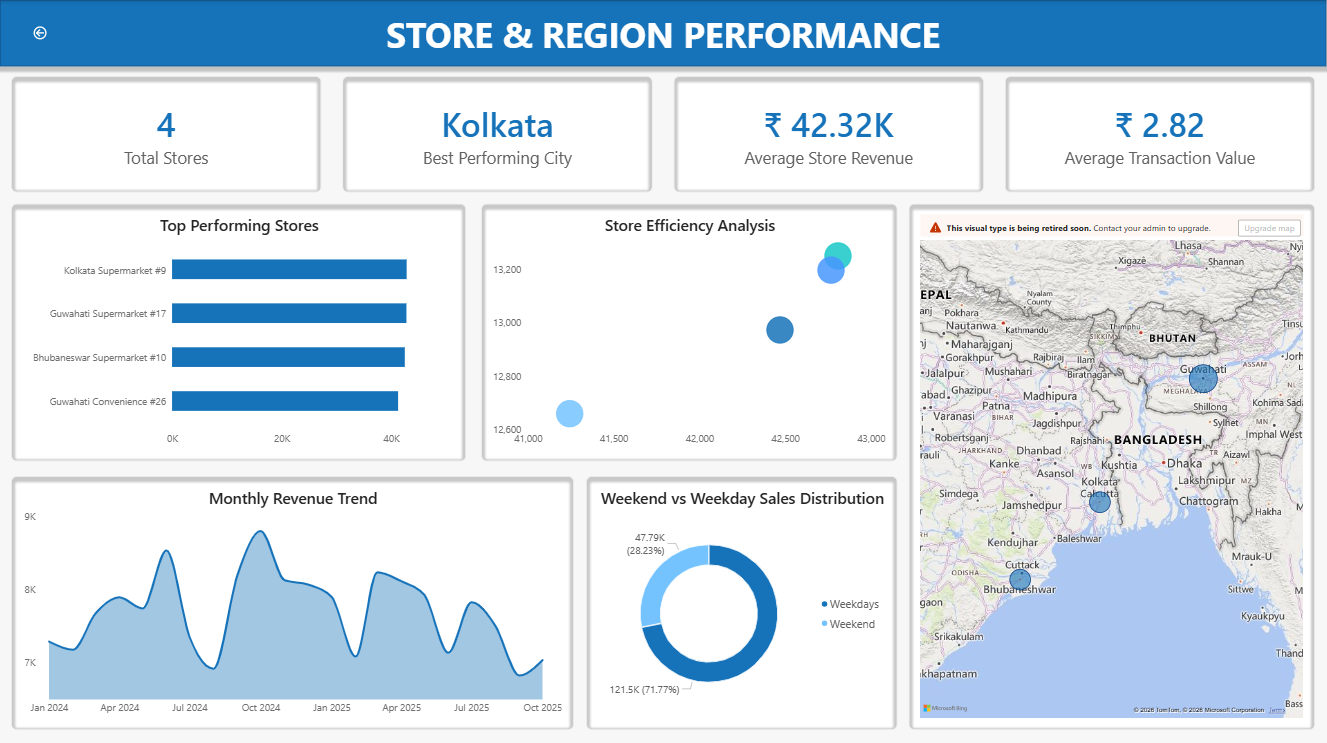

Layout of this report page (visuals, bound fields, positions):
{"tool":"powerbi","page":{"name":"STORE & REGION PERFORMANCE","canvas":[1920,1080],"ordinal":2},"visuals":[{"type":"shape","box":[0,0,1920.1,95.9],"z":0},{"type":"card","fields":{"Values":["Measure.Total Stores"]},"box":[16.3,110.4,448.8,168.3],"z":1000},{"type":"card","fields":{"Values":["Measure.Best Performing City"]},"box":[495.8,110.4,448.8,168.3],"z":2000},{"type":"map","fields":{"Category":["Dim_Stores.City"],"Size":["Measure.Total Sales"]},"box":[1315.6,295,588.1,761.9],"z":3000},{"type":"scatterChart","title":"Store Efficiency Analysis","fields":{"Series":["Dim_Stores.StoreName"],"Size":["Measure.Total Orders"],"X":["Measure.Total Sales"],"Y":["Measure.Total Profit"]},"box":[696.7,295,602.6,372.8],"z":4000},{"type":"card","fields":{"Values":["Measure.Average Store Revenue"]},"box":[975.4,110.4,448.8,168.3],"z":5000},{"type":"actionButton","box":[0,0,115.8,95.9],"z":6000},{"type":"card","fields":{"Values":["Measure.Average Transaction Value"]},"box":[1455,110.4,448.8,168.3],"z":7000},{"type":"barChart","title":"Top Performing Stores","fields":{"Category":["Dim_Stores.StoreName"],"Y":["Measure.Total Sales"]},"box":[16.3,295,658.7,372.8],"z":8000},{"type":"areaChart","title":"Monthly Revenue Trend","fields":{"Category":["Dim_Calendar.Year Hierarchy.StartofMonth"],"Y":["Measure.Total Sales"]},"box":[16.3,689.5,814.3,367.4],"z":9000},{"type":"donutChart","title":"Weekend vs Weekday Sales Distribution","fields":{"Category":["Dim_Calendar.IsWeekend"],"Y":["Measure.Total Sales"]},"box":[848.7,689.5,450.6,367.4],"z":10000}]}

Visuals, with their boxes in screenshot pixels (x1, y1, x2, y2), scaled from the page's 1920x1080 canvas onto the 1327x743 screenshot:
shape: [0, 0, 1326, 66]
card - Measure.Total Stores: [11, 76, 321, 192]
card - Measure.Best Performing City: [343, 76, 653, 192]
map - Dim_Stores.City x Measure.Total Sales: [909, 203, 1316, 727]
"Store Efficiency Analysis" scatterChart: [482, 203, 898, 459]
card - Measure.Average Store Revenue: [674, 76, 984, 192]
actionButton: [0, 0, 80, 66]
card - Measure.Average Transaction Value: [1006, 76, 1316, 192]
"Top Performing Stores" barChart: [11, 203, 467, 459]
"Monthly Revenue Trend" areaChart: [11, 474, 574, 727]
"Weekend vs Weekday Sales Distribution" donutChart: [587, 474, 898, 727]
